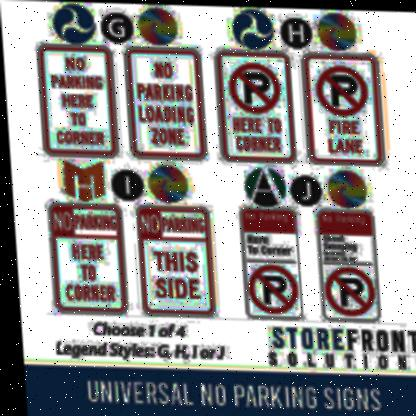No parking: (313, 59, 368, 113), (224, 62, 280, 114), (245, 264, 297, 310), (320, 266, 372, 311)
